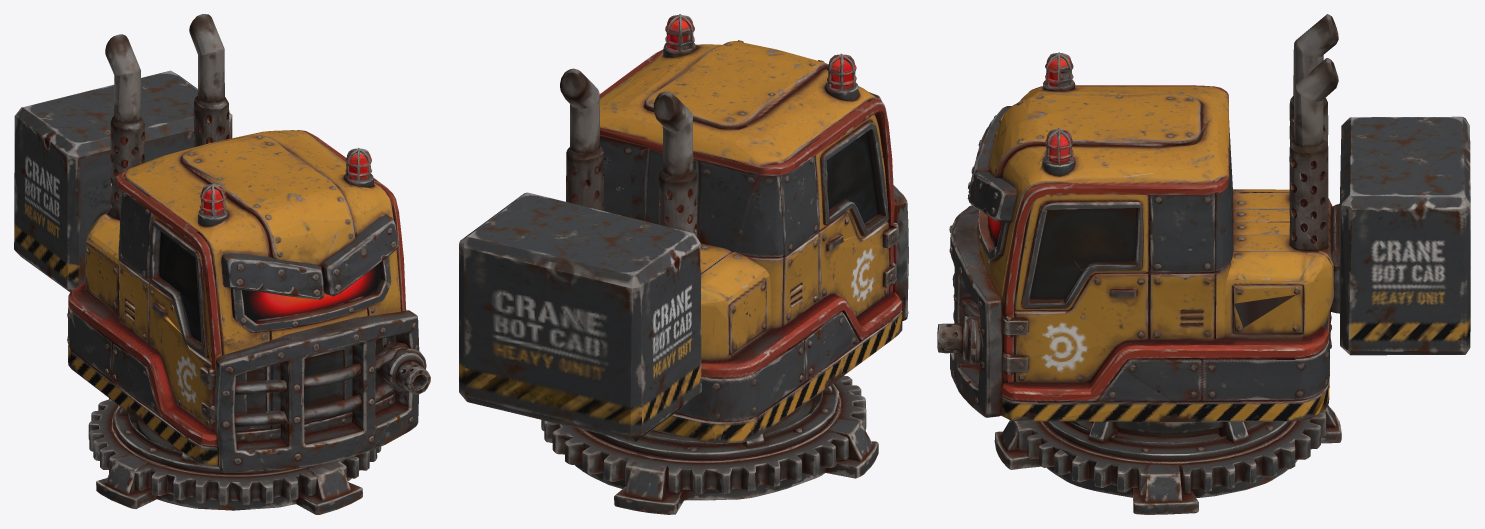
File: crane_cab.glb
3 views of the same model, side by side, from view 1: azimuth 30°, elevation 25°; view 2: azimuth 150°, elevation 25°; view 3: azimuth 270°, elevation 25° (orthographic). The views are drawn at different scales.
Visible parts, largest first — view 1: crane_cab; view 2: crane_cab; view 3: crane_cab.
Part boxes in pixels (x1=…): crane_cab: x1=14, y1=14, x2=430, y2=514; crane_cab: x1=459, y1=14, x2=908, y2=514; crane_cab: x1=937, y1=14, x2=1470, y2=514.
Size of the model in its own units: 1.94 by 2.53 by 3.
1 material, 1 textured.
